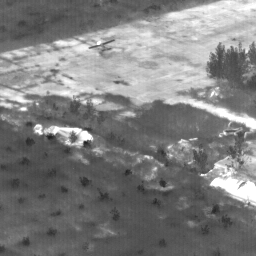aircraft: (98, 42, 100, 44)
